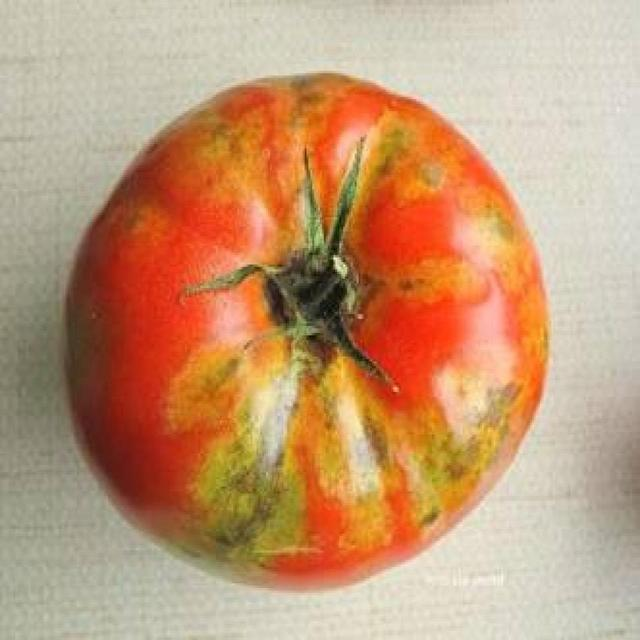Spotted wilt Virus Fruit: (66, 28, 145, 145)
